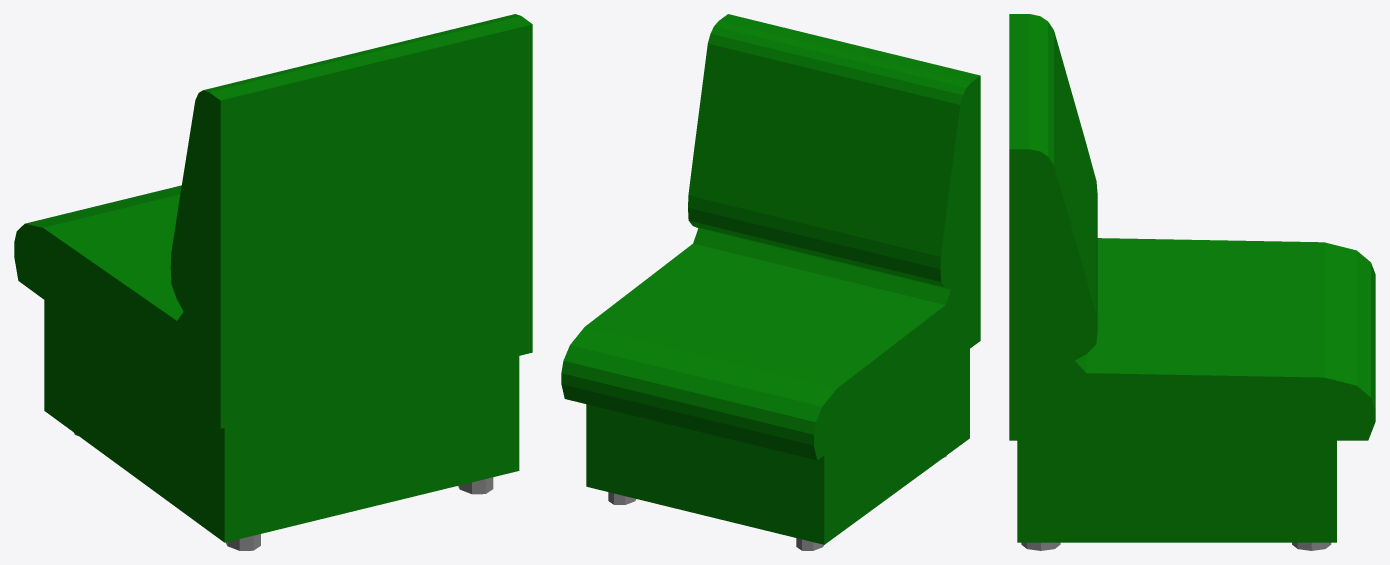
Rendered from soft_chair_visual_green.dae.
The picture shows the model from 3 angles, left to right: view 1: azimuth 30°, elevation 25°; view 2: azimuth 150°, elevation 25°; view 3: azimuth 270°, elevation 25°; orthographic projection. The views are drawn at different scales.
Parts seen in each view (by area): view 1: Circle; view 2: Circle; view 3: Circle.
Part boxes in pixels (x1,y1,x2,y2): Circle: [14, 14, 532, 550]; Circle: [561, 14, 980, 550]; Circle: [1009, 14, 1375, 550].
Bounding box in the file's own units: 68.14 × 77.97 × 96.93.
